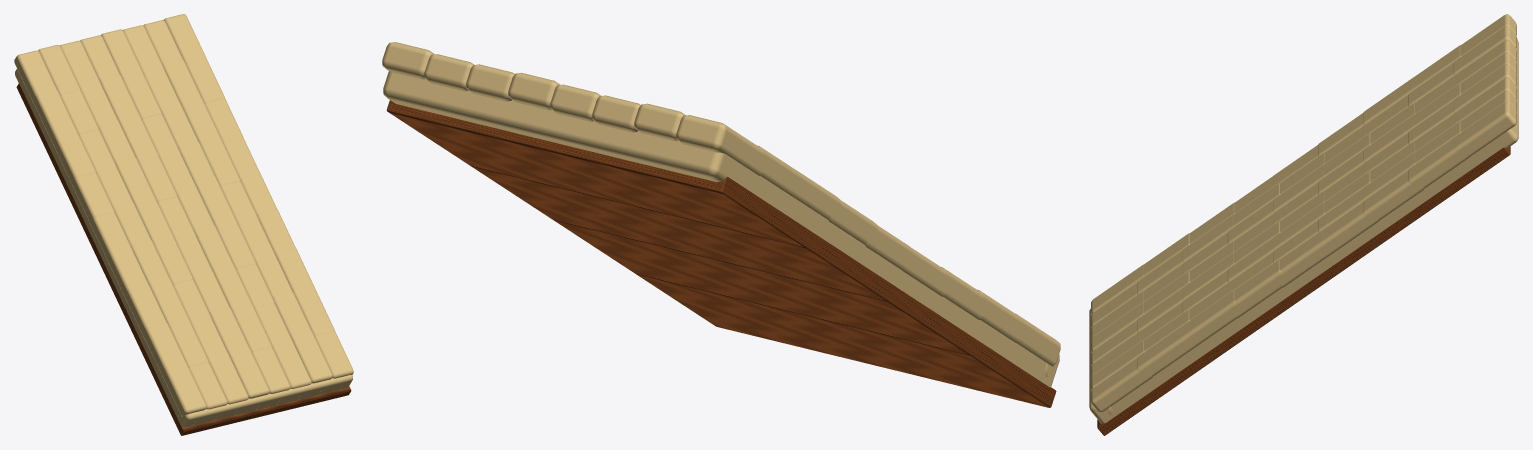
File: witch-cottage-and-apothecary-thatch-roof-section-62950bdf__32441.glb
3 renders of one model, left to right at view 1: azimuth 30°, elevation 25°; view 2: azimuth 150°, elevation 25°; view 3: azimuth 270°, elevation 25°, orthographic. The views are drawn at different scales.
Visible parts, largest first — view 1: thatch-roof-section; view 2: thatch-roof-section; view 3: thatch-roof-section.
Boxes of the visible parts, x1,y1,x2,y2 form: thatch-roof-section: (14, 14, 353, 435); thatch-roof-section: (382, 42, 1060, 407); thatch-roof-section: (1089, 14, 1518, 435).
Size of the model in its own units: 2.02 by 2.98 by 3.59.
2 materials, 1 textured.
